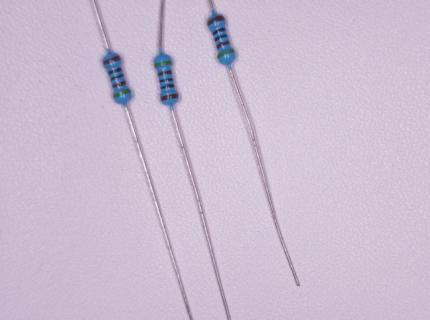Black band: (212, 27, 227, 36), (107, 67, 122, 75), (214, 33, 228, 41), (159, 77, 174, 84), (110, 74, 124, 81), (161, 84, 175, 90)
Brown band: (207, 14, 225, 27), (102, 55, 121, 66), (160, 93, 179, 101), (157, 69, 172, 78), (216, 40, 231, 49), (112, 80, 127, 88)
Green band: (217, 48, 236, 59), (113, 88, 132, 99), (154, 61, 173, 68)
